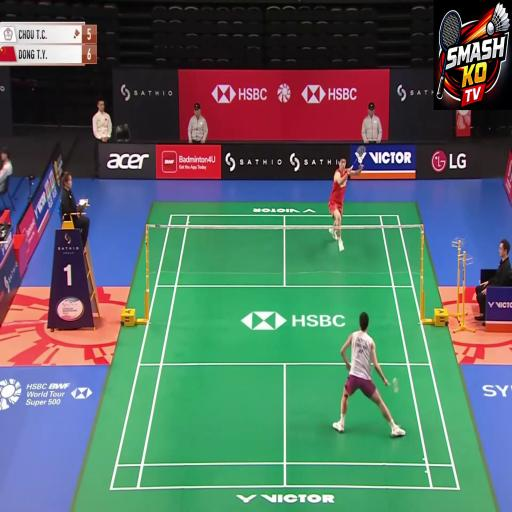player: (320, 148, 366, 271), (347, 306, 387, 441)
